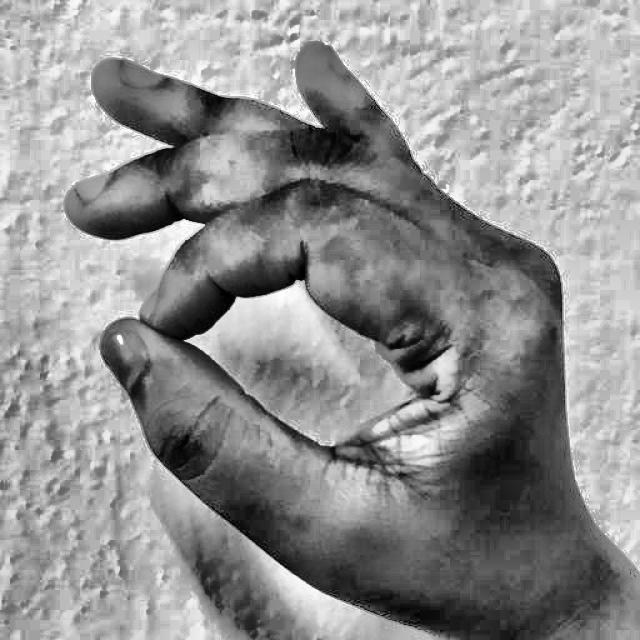Yo: (46, 18, 608, 632)
